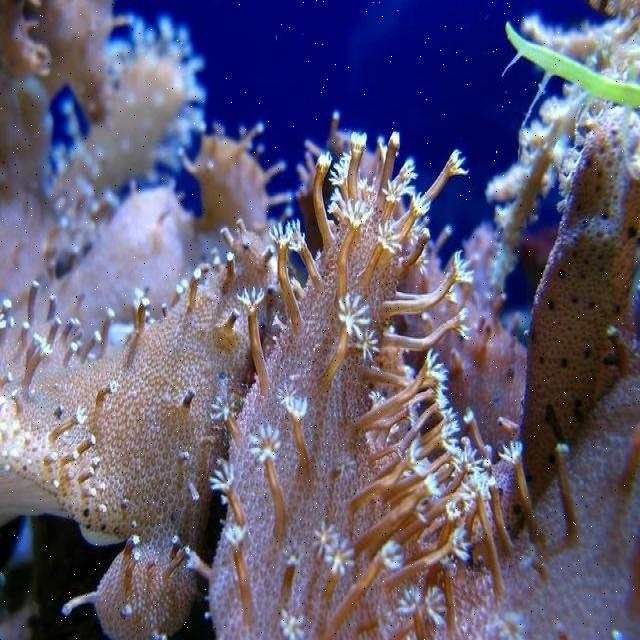aquatic plants: (505, 22, 639, 110)
reefs: (0, 0, 639, 639)
